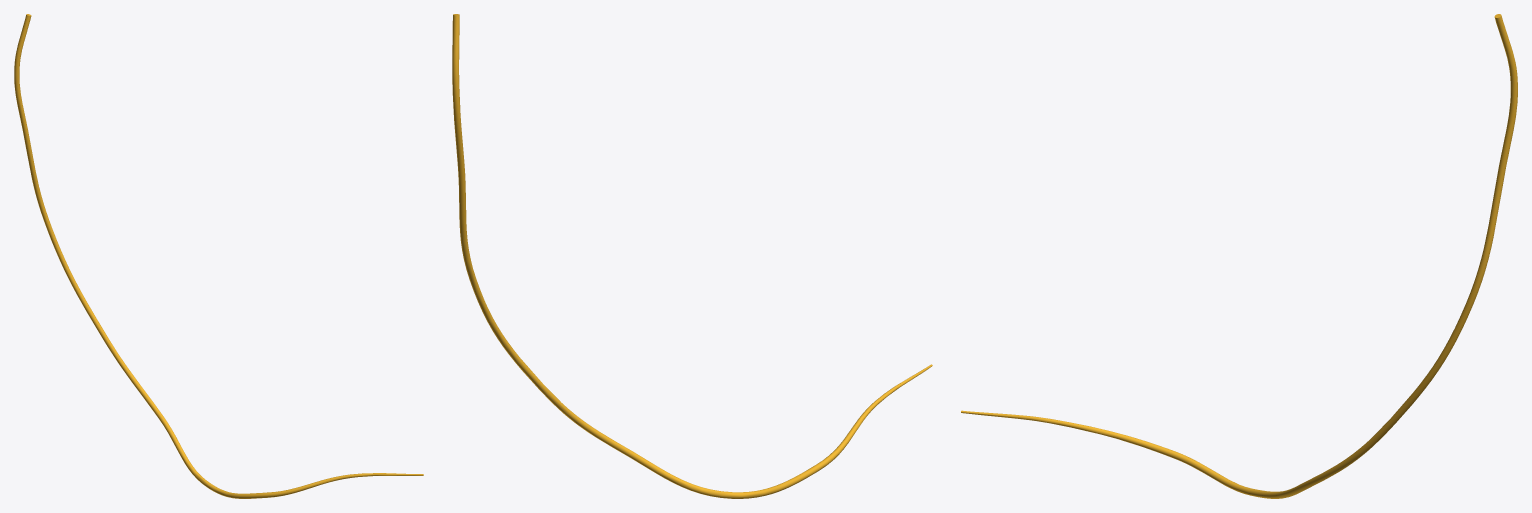
File: nervoso-lingual-nerve-l.glb
The picture shows the model from 3 angles, left to right: view 1: azimuth 90°, elevation 25°; view 2: azimuth 150°, elevation 25°; view 3: azimuth 270°, elevation 25°; orthographic projection. The views are drawn at different scales.
Parts seen in each view (by area): view 1: Lingual nerve.l; view 2: Lingual nerve.l; view 3: Lingual nerve.l.
Part boxes in pixels (box(x1,y1,x2,y2)): Lingual nerve.l: box(14, 14, 423, 498); Lingual nerve.l: box(452, 14, 932, 498); Lingual nerve.l: box(961, 14, 1517, 498).
Size of the model in its own units: 0.0228 by 0.0514 by 0.046.
